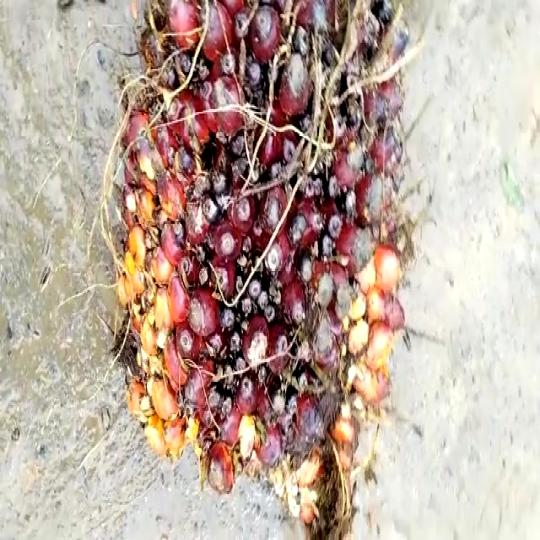kurang masak: (103, 0, 432, 540)
